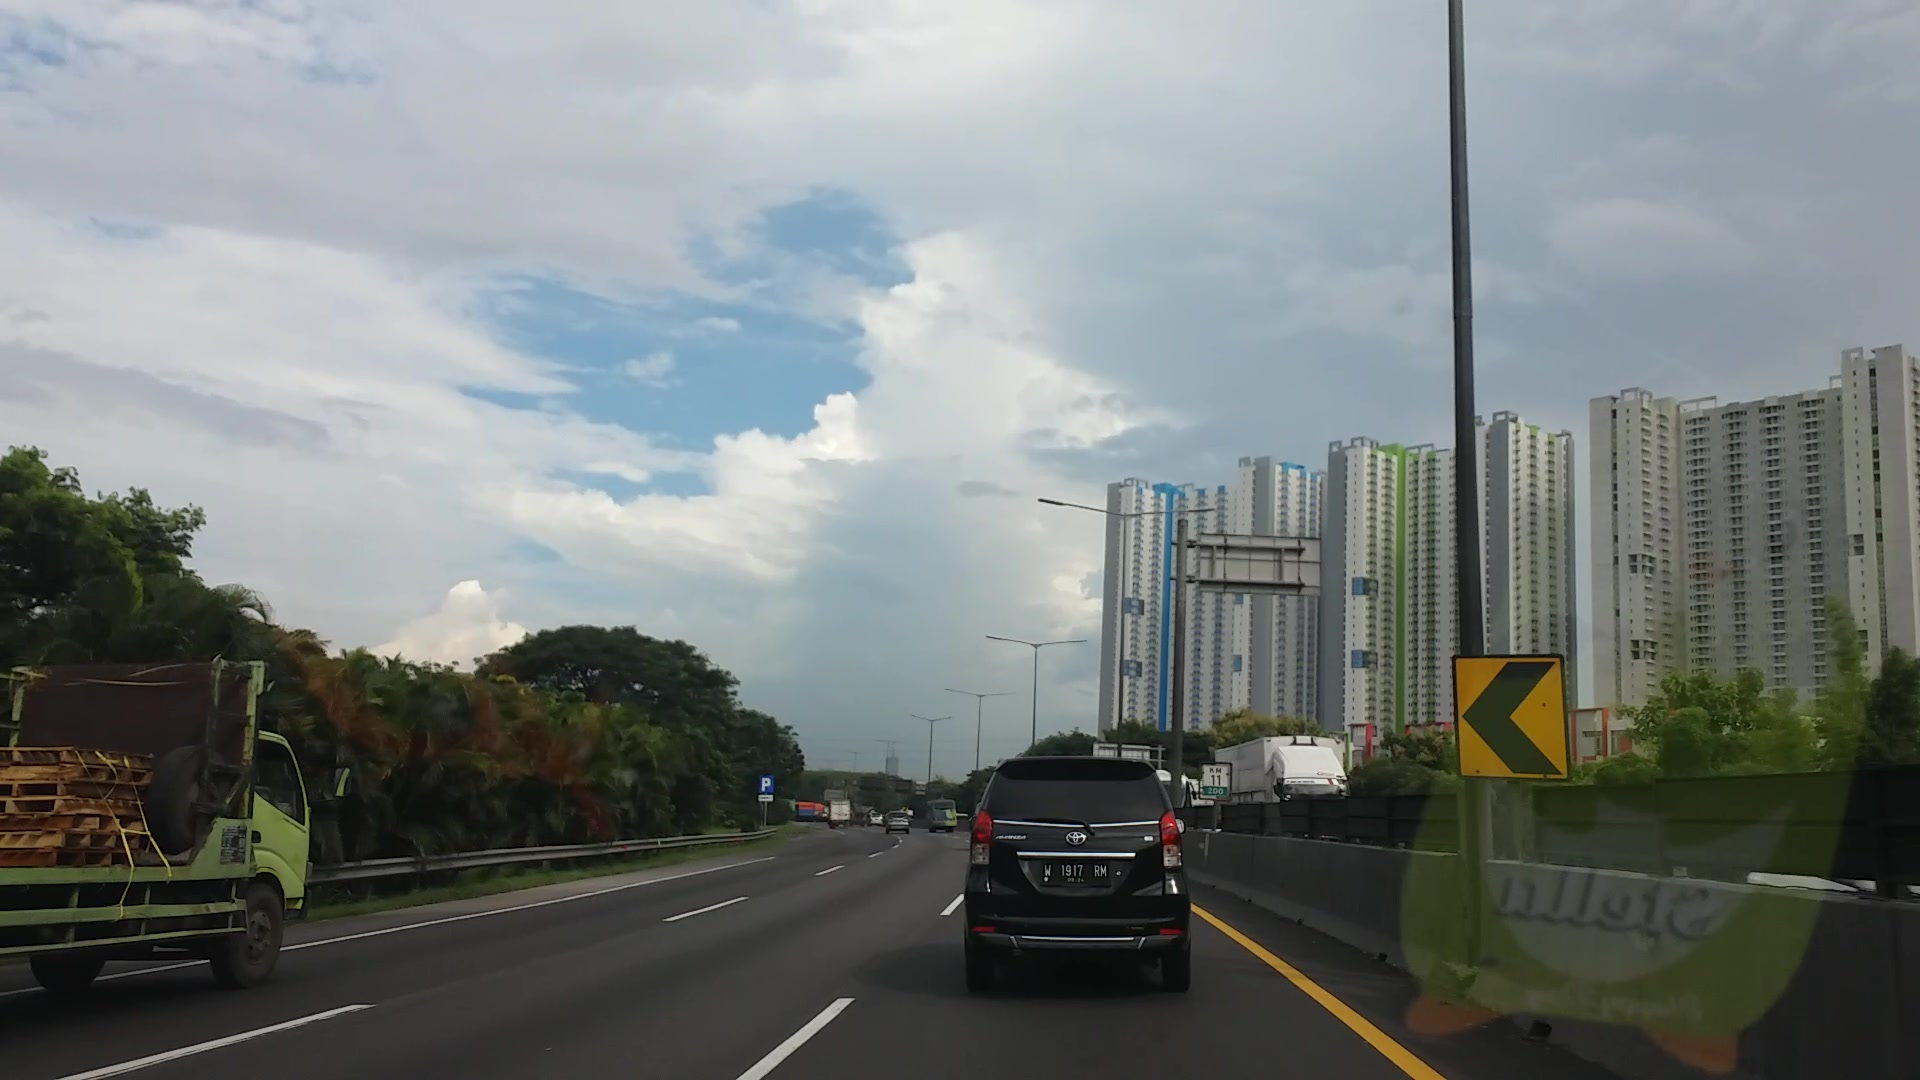plate_positive: (1040, 861, 1109, 886)
